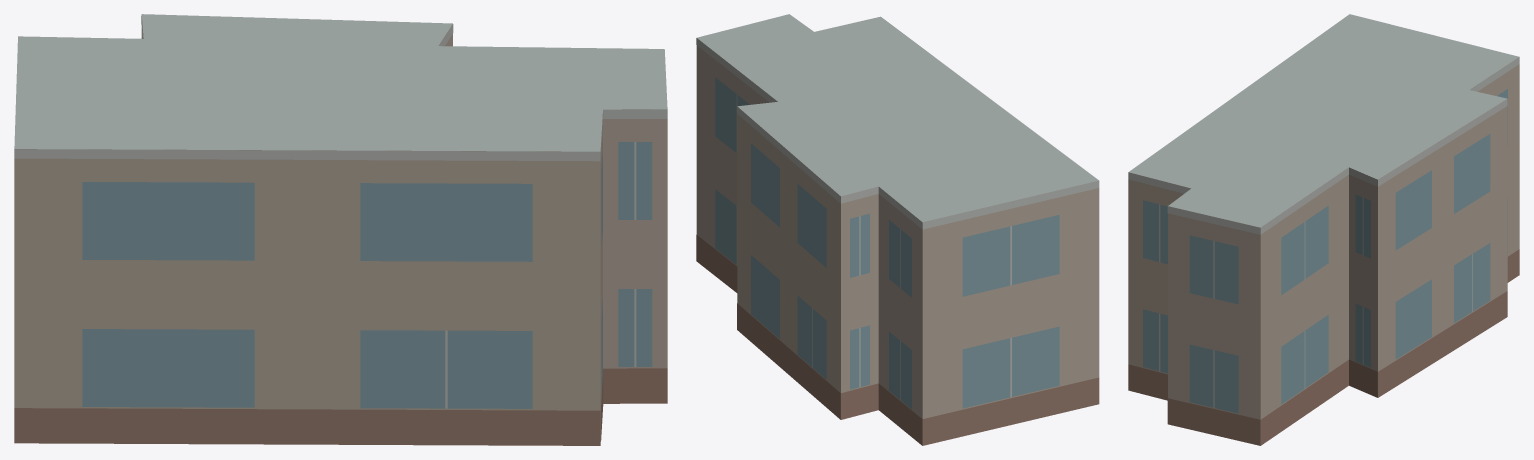
The model's file is survey-upis-33004351.glb.
3 views of the same model, side by side, from view 1: azimuth 30°, elevation 25°; view 2: azimuth 150°, elevation 25°; view 3: azimuth 270°, elevation 25° (orthographic). The views are drawn at different scales.
Visible parts, largest first — view 1: survey-upis-33004351.tmp; view 2: survey-upis-33004351.tmp; view 3: survey-upis-33004351.tmp.
Part boxes in pixels (x1,y1,x2,y2): survey-upis-33004351.tmp: [14, 14, 667, 445]; survey-upis-33004351.tmp: [696, 14, 1099, 445]; survey-upis-33004351.tmp: [1128, 14, 1519, 445].
Bounding box in the file's own units: 15.76 × 7.5 × 12.2.
